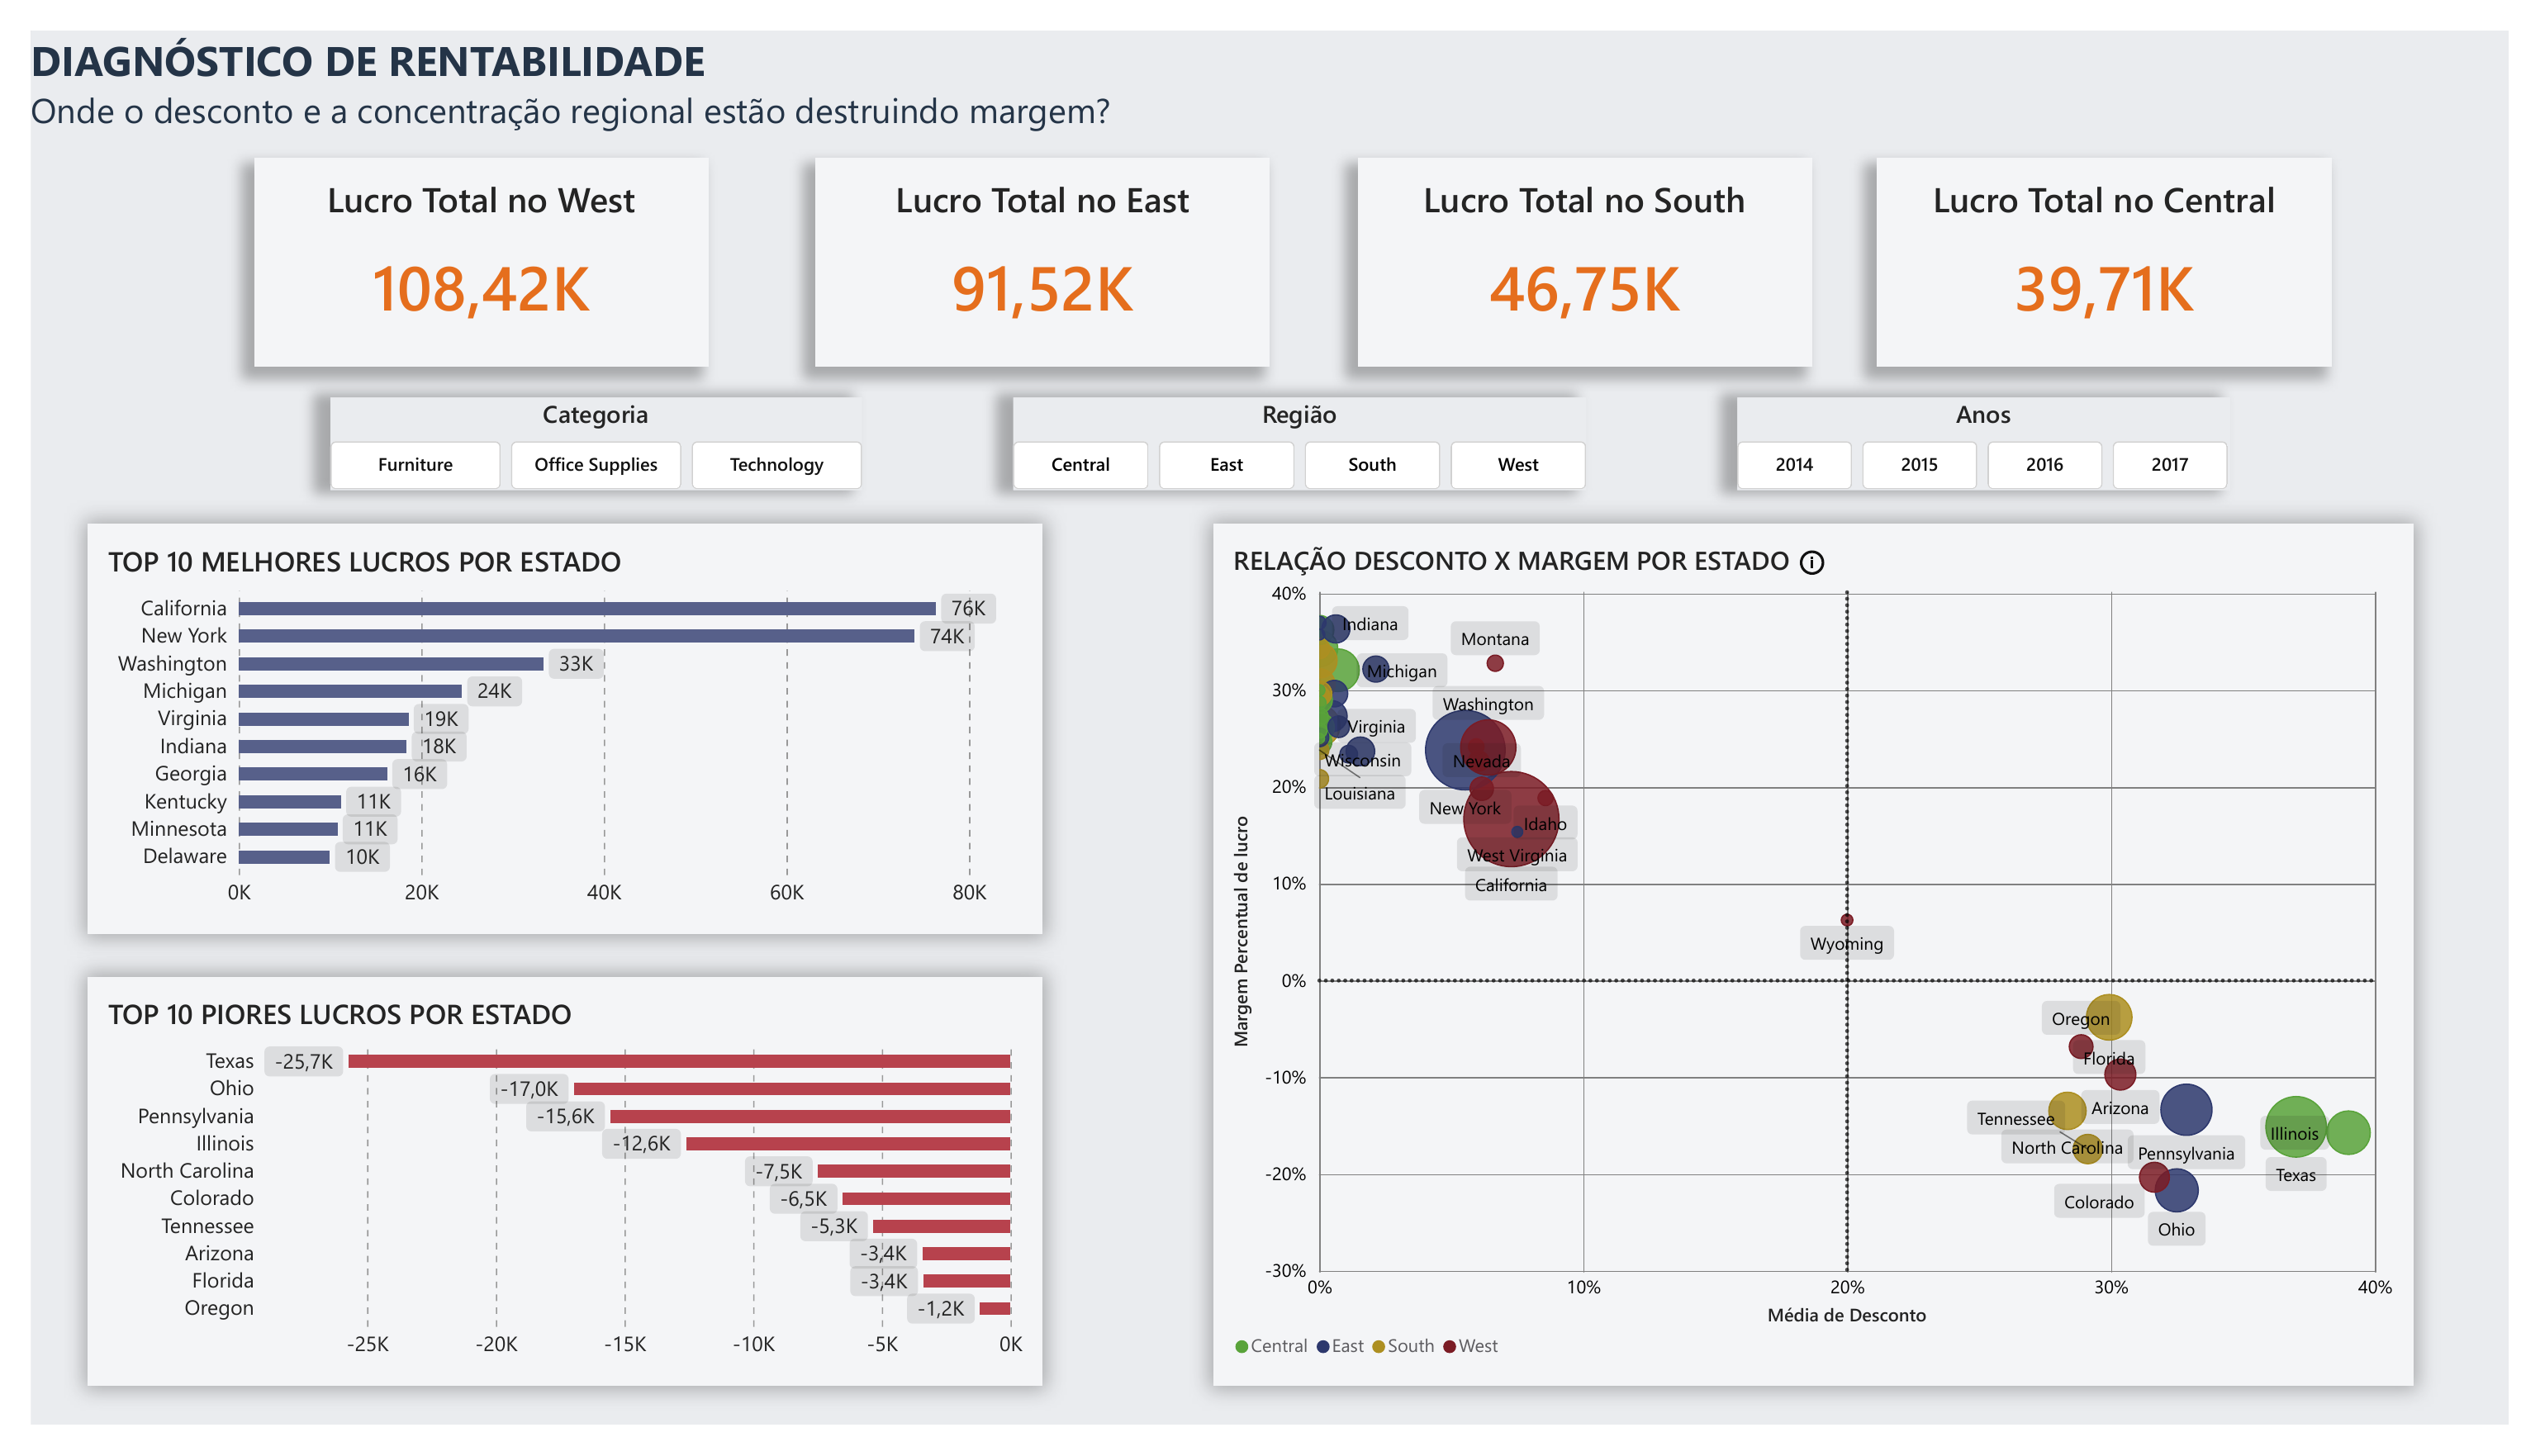

This screenshot's page, from the dashboard's own definition file:
{"tool":"powerbi","page":{"name":"Diagnóstico de Rentabilidade","canvas":[1920,1080],"ordinal":1},"visuals":[{"type":"shape","box":[0,0,1920,1080],"z":0},{"type":"textbox","box":[0,0,845,100],"z":1000},{"type":"clusteredBarChart","title":"TOP 10 PIORES LUCROS POR ESTADO","fields":{"Category":["raw_data.State"],"Y":["Sum(raw_data.Profit)"]},"box":[43.8,732.5,740,317.5],"z":2000},{"type":"clusteredBarChart","title":"TOP 10 MELHORES LUCROS POR ESTADO","fields":{"Category":["raw_data.State"],"Y":["Sum(raw_data.Profit)"]},"box":[44,382,740,318],"z":3000},{"type":"advancedSlicerVisual","title":"Categoria","fields":{"Values":["raw_data.Category"]},"box":[232.3,283.9,411.7,71.7],"z":4000},{"type":"advancedSlicerVisual","title":"Anos","fields":{"Values":["raw_data.ano"]},"box":[1322.3,283.9,381.7,71.7],"z":5000},{"type":"card","title":"Lucro Total no West","fields":{"Values":["Tabela1.Lucro Total West"]},"box":[173.5,97.6,352,162],"z":6000},{"type":"advancedSlicerVisual","title":"Região","fields":{"Values":["raw_data.Region"]},"box":[761.5,283.9,443.3,71.7],"z":7000},{"type":"card","title":"Lucro Total no East","fields":{"Values":["Tabela1.Lucro Total East"]},"box":[607.5,97.5,352.5,162.5],"z":8000},{"type":"card","title":"Lucro Total no South","fields":{"Values":["Tabela1.Lucro Total South"]},"box":[1027.5,97.5,352.5,162.5],"z":9000},{"type":"card","title":"Lucro Total no Central","fields":{"Values":["Tabela1.Lucro Total Central"]},"box":[1430,97.5,352.5,162.5],"z":10000},{"type":"scatterChart","title":"RELAÇÃO DESCONTO X MARGEM POR ESTADO","fields":{"Category":["raw_data.State"],"Series":["raw_data.Region"],"Size":["Sum(raw_data.Sales)"],"X":["Tabela1.Media_desconto"],"Y":["Tabela1.Margem_Percentual"]},"box":[916,382,930,668],"z":11000},{"type":"actionButton","box":[14,100,60,38],"z":12000},{"type":"actionButton","box":[43.3,700,41.7,31.7],"z":13000},{"type":"actionButton","box":[1358,396,42,32],"z":16500}]}

Visuals, with their boxes on the page's 1920x1080 design canvas (x1, y1, x2, y2). These are canvas units, not pixel positions in the 2540x1456 screenshot, which may show the page scaled, cropped or inside an application window:
shape: 0 0 1920 1080
textbox: 0 0 845 100
"TOP 10 PIORES LUCROS POR ESTADO" clusteredBarChart: 44 732 784 1050
"TOP 10 MELHORES LUCROS POR ESTADO" clusteredBarChart: 44 382 784 700
"Categoria" advancedSlicerVisual: 232 284 644 356
"Anos" advancedSlicerVisual: 1322 284 1704 356
"Lucro Total no West" card: 174 98 526 260
"Região" advancedSlicerVisual: 762 284 1205 356
"Lucro Total no East" card: 608 98 960 260
"Lucro Total no South" card: 1028 98 1380 260
"Lucro Total no Central" card: 1430 98 1782 260
"RELAÇÃO DESCONTO X MARGEM POR ESTADO" scatterChart: 916 382 1846 1050
actionButton: 14 100 74 138
actionButton: 43 700 85 732
actionButton: 1358 396 1400 428
